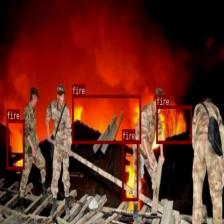fire: (72, 94, 140, 143), (156, 105, 192, 143), (122, 140, 138, 200), (6, 120, 24, 169)
